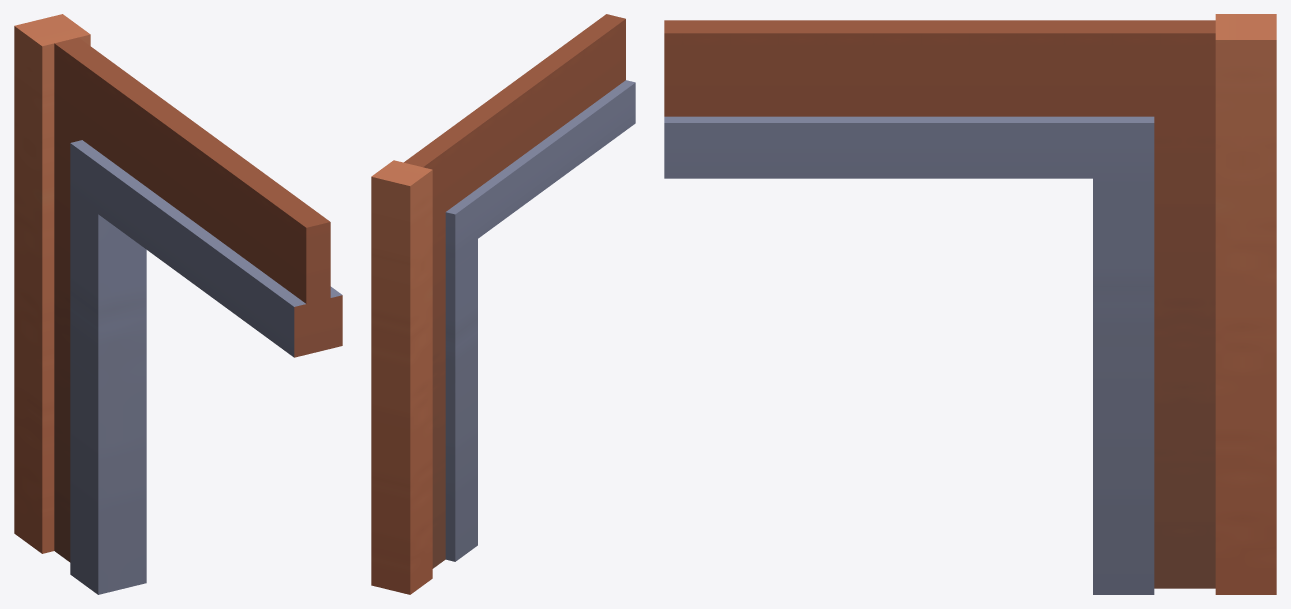
Rendered from wallWoodDoorwaySquareWide.fbx.
3 renders of one model, left to right at view 1: azimuth 30°, elevation 25°; view 2: azimuth 150°, elevation 25°; view 3: azimuth 270°, elevation 25°, orthographic. The views are drawn at different scales.
Parts seen in each view (by area): view 1: wallWoodDoorwaySquareWide; view 2: wallWoodDoorwaySquareWide; view 3: wallWoodDoorwaySquareWide.
Boxes of the visible parts, x1,y1,x2,y2 form: wallWoodDoorwaySquareWide: (14, 14, 342, 594); wallWoodDoorwaySquareWide: (371, 14, 635, 594); wallWoodDoorwaySquareWide: (664, 14, 1276, 594).
Bounding box in the file's own units: 0.1 × 1 × 1.
